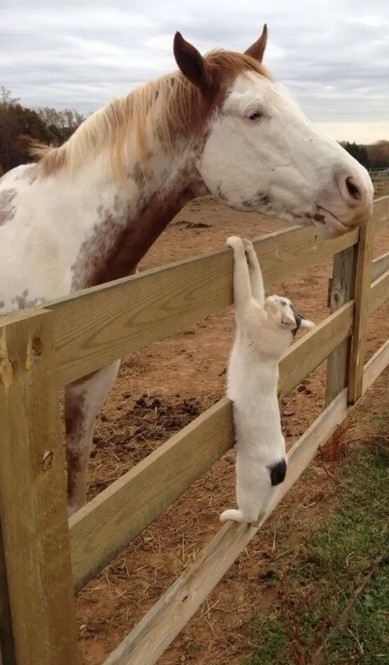cat: (218, 235, 316, 528)
horse: (1, 23, 374, 519)
